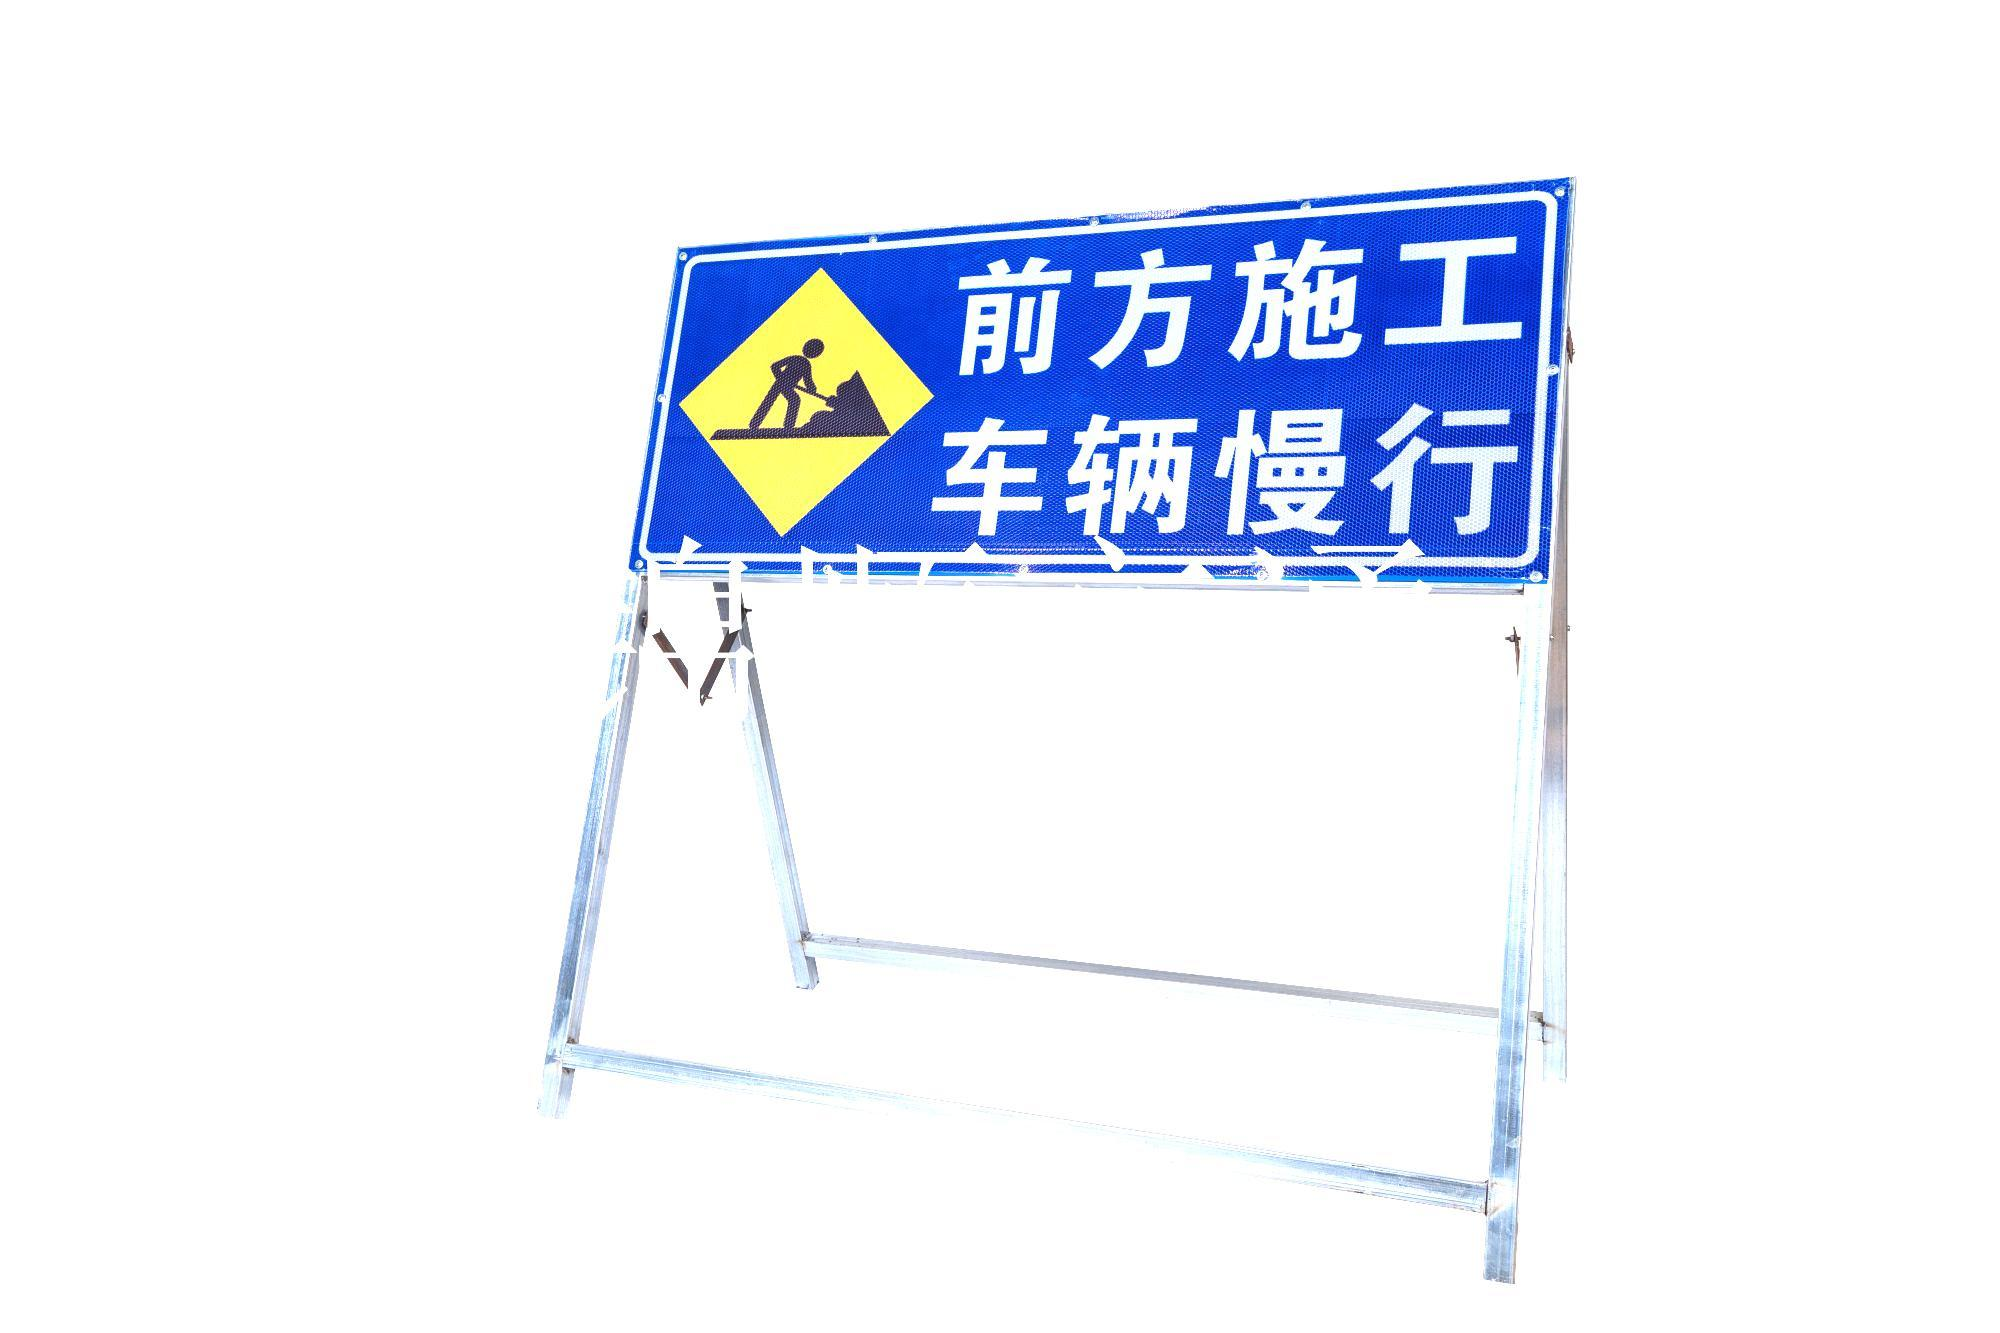sign: (653, 214, 1555, 568)
